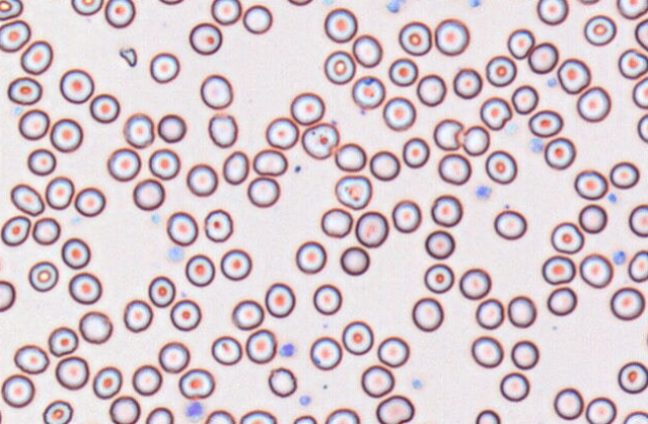PLT: (433, 118, 465, 151), (182, 400, 207, 422), (474, 185, 494, 204), (530, 136, 546, 154), (612, 247, 628, 265), (279, 342, 297, 358), (384, 0, 402, 16), (168, 245, 184, 262), (298, 392, 313, 407), (607, 191, 618, 205), (546, 76, 557, 88), (468, 0, 483, 8)
RBC: (301, 122, 339, 159), (334, 174, 372, 209), (556, 57, 591, 94), (576, 85, 611, 122), (434, 18, 469, 55), (59, 68, 94, 103), (609, 286, 645, 320), (199, 73, 233, 109), (355, 210, 388, 247), (55, 355, 89, 390), (106, 147, 141, 181), (49, 117, 83, 152), (290, 91, 325, 125), (579, 253, 613, 288), (398, 20, 432, 55), (323, 7, 357, 42), (20, 39, 53, 75), (1, 373, 35, 407), (78, 310, 112, 344), (351, 75, 385, 109), (382, 96, 415, 131), (178, 367, 214, 399), (122, 112, 154, 148), (375, 394, 414, 423), (360, 364, 394, 397), (309, 336, 342, 370), (265, 116, 299, 149), (10, 183, 44, 216), (188, 22, 222, 55), (550, 221, 584, 254), (68, 271, 102, 304), (411, 296, 443, 331), (166, 211, 198, 246), (341, 320, 373, 355), (485, 149, 517, 184), (264, 282, 295, 318), (470, 335, 503, 368), (437, 153, 471, 185), (323, 50, 355, 84), (245, 328, 276, 363), (573, 169, 608, 200), (13, 344, 49, 374), (132, 178, 165, 210), (186, 163, 218, 196), (543, 136, 575, 169), (430, 194, 462, 227), (583, 14, 616, 46), (617, 360, 648, 394), (295, 240, 326, 274), (541, 254, 575, 285), (158, 341, 190, 373), (148, 148, 180, 180), (459, 267, 491, 299), (17, 108, 49, 140), (220, 248, 252, 280), (247, 176, 280, 207), (170, 298, 201, 331), (320, 207, 353, 238), (231, 299, 264, 330), (184, 253, 215, 286), (527, 41, 558, 74), (485, 54, 516, 87), (493, 209, 526, 240), (92, 365, 122, 399), (207, 113, 237, 147), (391, 199, 421, 233), (203, 208, 233, 242), (7, 76, 42, 105), (131, 364, 162, 396), (369, 149, 400, 181), (377, 336, 409, 367), (0, 19, 30, 52), (553, 387, 583, 420), (416, 73, 446, 106), (352, 34, 382, 67), (45, 175, 74, 209), (252, 148, 287, 176), (528, 109, 563, 137), (617, 48, 648, 79), (74, 186, 105, 217), (312, 283, 342, 315), (0, 214, 30, 246), (452, 67, 482, 99), (28, 260, 58, 292), (123, 299, 152, 332), (267, 366, 297, 397), (47, 326, 78, 356), (211, 335, 242, 365), (423, 263, 454, 293), (424, 229, 455, 259), (339, 245, 370, 275), (149, 52, 179, 83), (89, 93, 120, 123), (108, 395, 140, 424), (475, 297, 504, 329), (334, 142, 366, 171), (507, 295, 536, 327), (61, 237, 90, 269), (222, 150, 249, 184), (499, 371, 529, 401), (242, 4, 272, 34), (461, 124, 490, 155), (506, 28, 535, 59), (546, 286, 577, 315), (510, 339, 539, 369), (157, 113, 186, 143), (578, 203, 607, 233), (388, 57, 418, 86), (585, 396, 616, 424), (104, 0, 135, 28), (148, 275, 175, 307), (402, 136, 429, 168), (609, 161, 639, 189), (27, 147, 56, 175), (32, 216, 60, 245), (511, 84, 538, 114), (536, 0, 568, 25), (42, 399, 73, 424), (210, 0, 241, 25), (627, 249, 648, 282), (628, 203, 648, 237), (616, 0, 648, 19), (324, 407, 360, 423), (632, 76, 648, 109), (239, 409, 276, 423), (0, 279, 15, 312), (70, 0, 103, 15), (145, 406, 173, 423), (634, 18, 648, 51), (0, 0, 23, 20), (204, 409, 235, 423), (474, 408, 500, 424), (622, 410, 648, 424), (637, 113, 648, 143), (292, 414, 317, 423), (286, 0, 313, 6), (157, 0, 185, 5), (576, 0, 601, 5), (644, 326, 648, 354), (319, 0, 335, 5), (0, 249, 3, 274), (0, 405, 3, 424), (41, 0, 66, 2)
Schistocyte: (479, 97, 512, 131), (118, 46, 138, 67)
